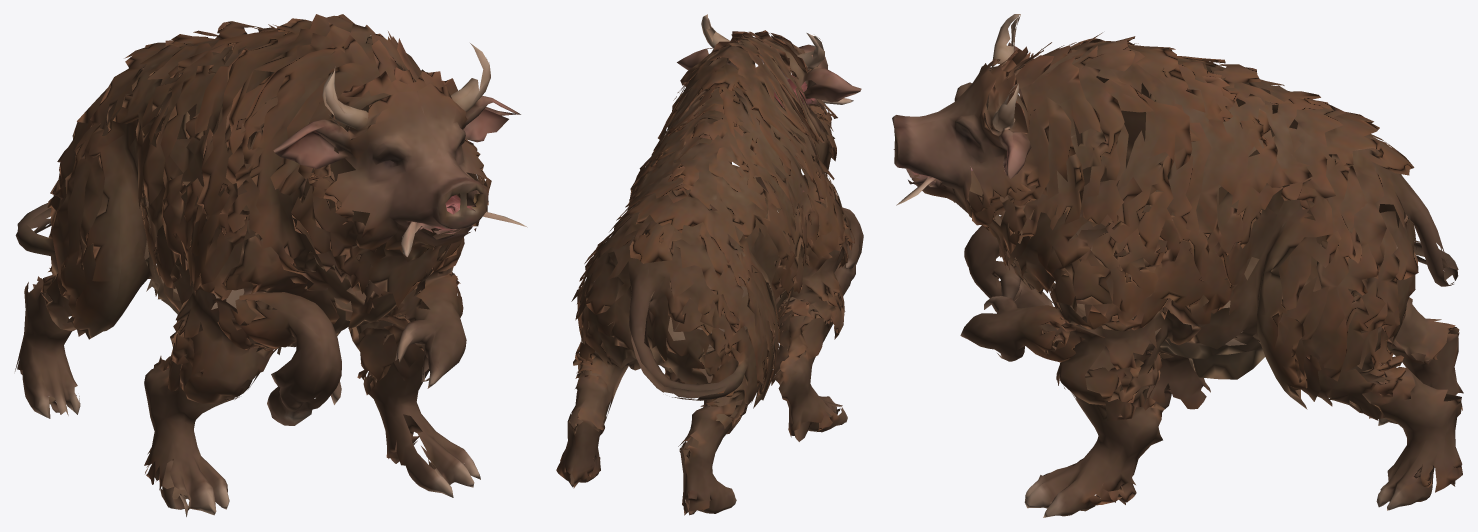
The model's file is critter_boar.glb.
3 renders of one model, left to right at view 1: azimuth 30°, elevation 25°; view 2: azimuth 150°, elevation 25°; view 3: azimuth 270°, elevation 25°, orthographic. The views are drawn at different scales.
Visible parts, largest first — view 1: world; view 2: world; view 3: world.
Boxes of the visible parts, x1,y1,x2,y2 form: world: [15, 14, 527, 516]; world: [556, 14, 863, 515]; world: [892, 14, 1463, 517].
Size of the model in its own units: 0.5477 by 0.8509 by 0.9944.
1 material, 1 textured.
